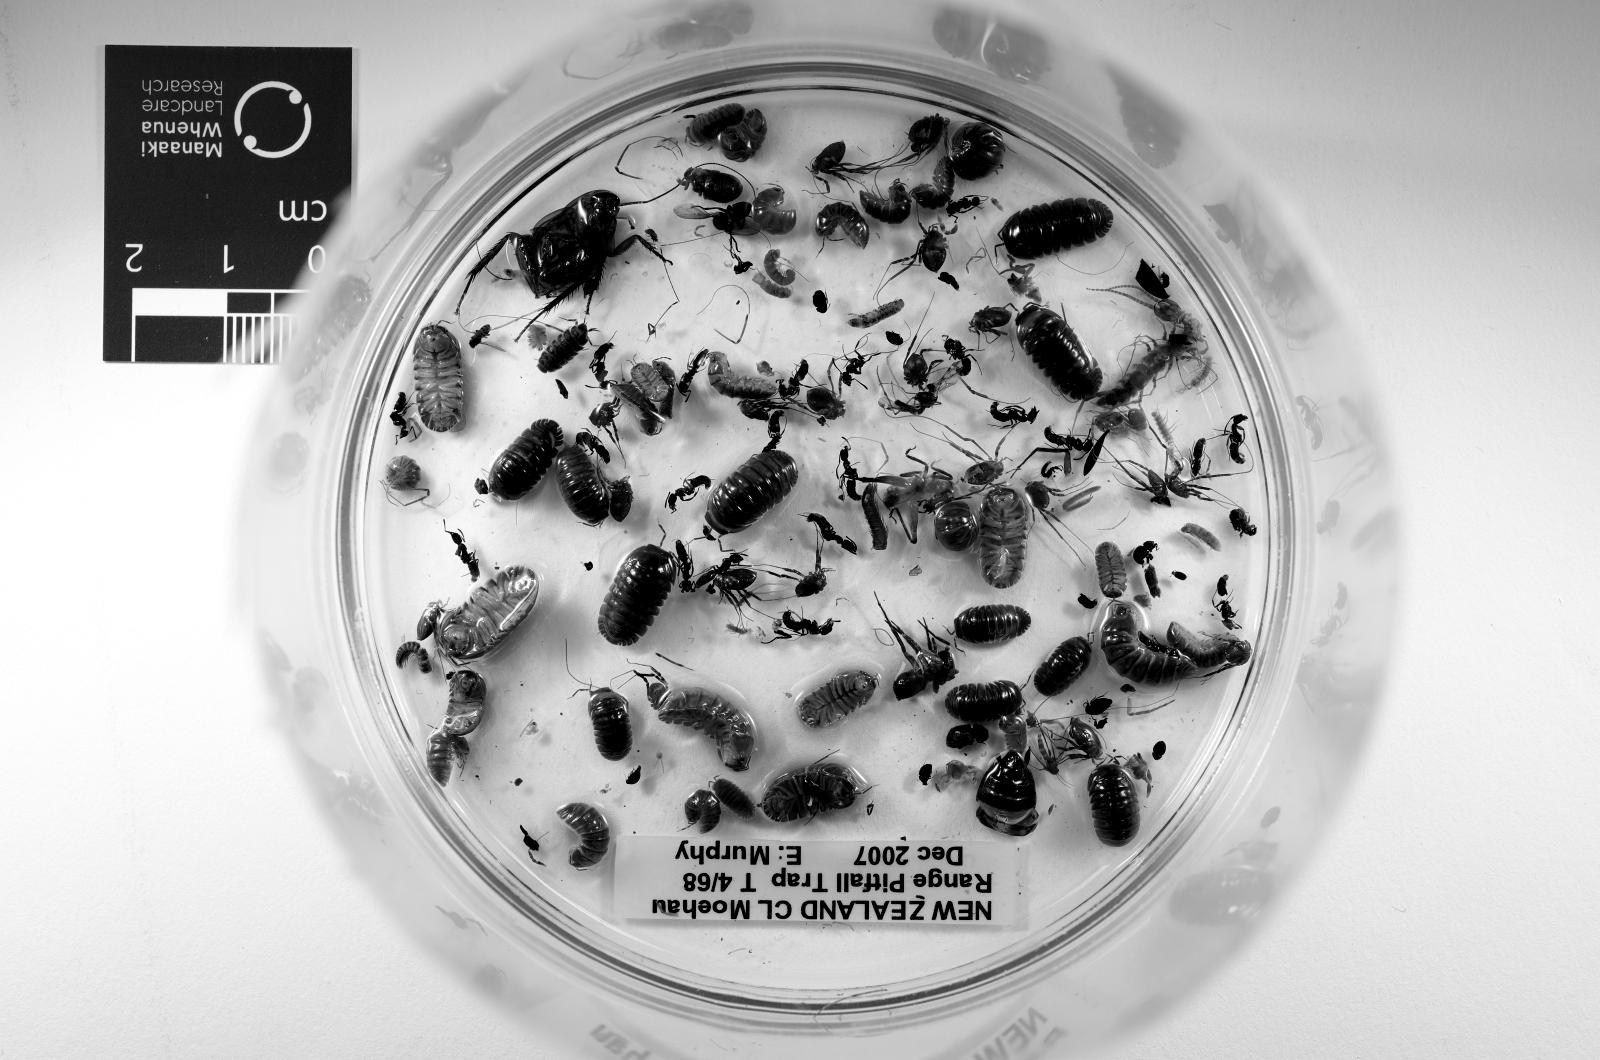araneae: (879, 602, 957, 699)
blattodea: (462, 189, 666, 317)
chilopoda: (1094, 286, 1206, 407)
coleoptera: (947, 724, 987, 751), (1229, 509, 1256, 537), (1132, 541, 1157, 565), (1084, 699, 1113, 715), (812, 289, 828, 314), (919, 764, 934, 786), (1149, 742, 1166, 761), (626, 767, 641, 786), (887, 332, 903, 344), (1172, 571, 1187, 581)
diptera: (879, 363, 959, 416), (675, 202, 763, 237), (1031, 720, 1069, 776), (468, 327, 506, 351), (643, 227, 660, 243)
formicidae: (694, 552, 747, 590), (807, 512, 856, 552), (675, 348, 710, 401), (666, 476, 713, 512), (447, 531, 478, 584), (1044, 426, 1094, 453), (782, 612, 835, 636), (1222, 413, 1246, 466), (837, 444, 860, 500), (841, 351, 875, 386), (778, 360, 809, 397), (991, 401, 1037, 426), (675, 541, 697, 593), (944, 338, 972, 376), (575, 432, 609, 463), (1216, 575, 1235, 631), (590, 342, 613, 388), (390, 392, 409, 441), (763, 409, 782, 453), (947, 195, 982, 218), (1191, 438, 1206, 478), (1041, 463, 1064, 478)
isopoda: (434, 565, 538, 665), (1016, 304, 1103, 401), (1097, 602, 1197, 686), (597, 547, 678, 646), (706, 451, 797, 537), (660, 690, 753, 770), (1000, 199, 1113, 260), (759, 761, 866, 823), (487, 419, 563, 500), (413, 327, 466, 432), (797, 671, 879, 730), (1088, 761, 1141, 848), (982, 487, 1028, 587), (556, 444, 609, 525), (1166, 621, 1241, 671), (706, 351, 778, 401), (556, 804, 609, 870), (950, 121, 1006, 180), (1035, 636, 1090, 696), (944, 680, 1022, 720), (588, 690, 631, 761), (953, 606, 1031, 642), (609, 382, 662, 435), (443, 671, 485, 736), (719, 109, 769, 161), (538, 323, 588, 373), (934, 500, 982, 552), (816, 202, 869, 248), (860, 180, 913, 224), (687, 103, 744, 143), (428, 730, 468, 786), (909, 159, 953, 208), (753, 187, 797, 237), (1094, 541, 1125, 600), (713, 780, 757, 820), (847, 298, 903, 329), (685, 789, 721, 833), (631, 363, 669, 403), (384, 457, 422, 491), (763, 248, 797, 286), (397, 640, 432, 674)
opiliones: (944, 426, 1006, 487), (809, 143, 890, 189), (894, 218, 957, 273), (885, 115, 950, 168), (769, 547, 828, 596), (793, 367, 843, 419), (710, 565, 759, 612), (1119, 463, 1168, 506), (685, 168, 744, 205), (1025, 481, 1062, 537), (903, 336, 938, 388), (1166, 463, 1212, 500), (1065, 717, 1103, 761), (634, 667, 669, 707), (590, 397, 618, 444), (1212, 640, 1250, 674), (969, 308, 1012, 336), (738, 397, 784, 422), (415, 600, 443, 640), (609, 478, 634, 522), (1090, 409, 1125, 432), (1125, 407, 1147, 432)
orthoptera: (875, 451, 953, 543)
